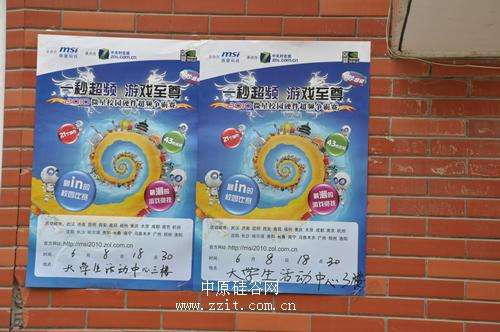bill: (196, 39, 371, 294), (28, 32, 194, 291)
